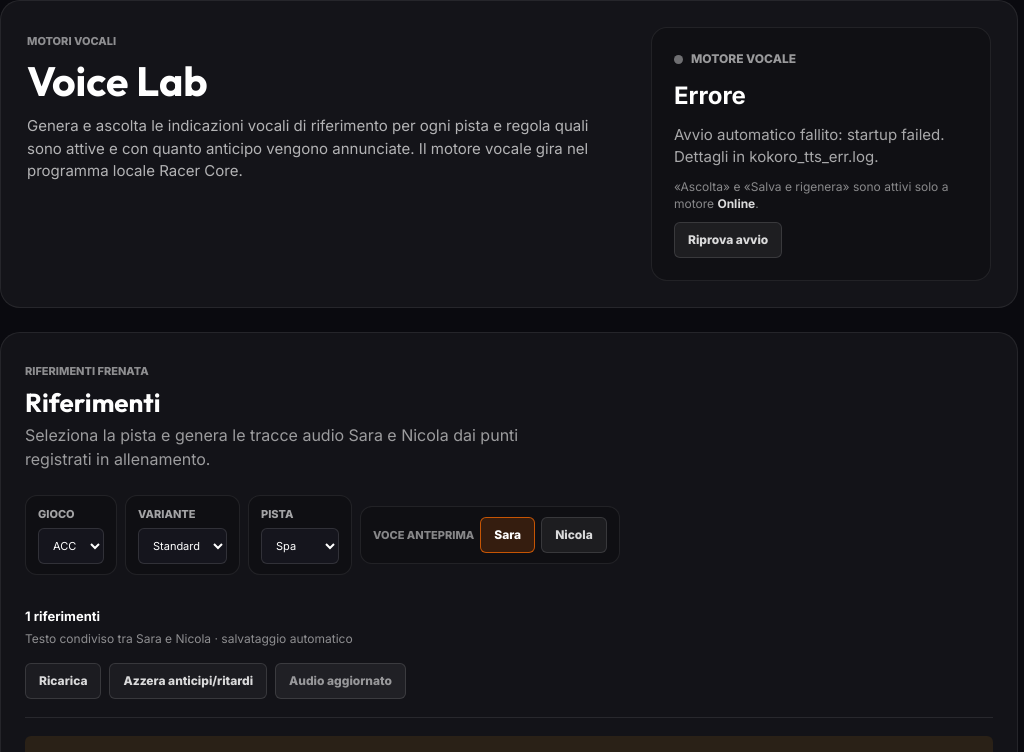
Scenario: Voice Lab user interactions › reports startup failure, permits retry and times out persistent warmup
Click the button "Riprova avvio": (728, 240) left=674, top=222, right=782, bottom=258
Wait 123000 ms
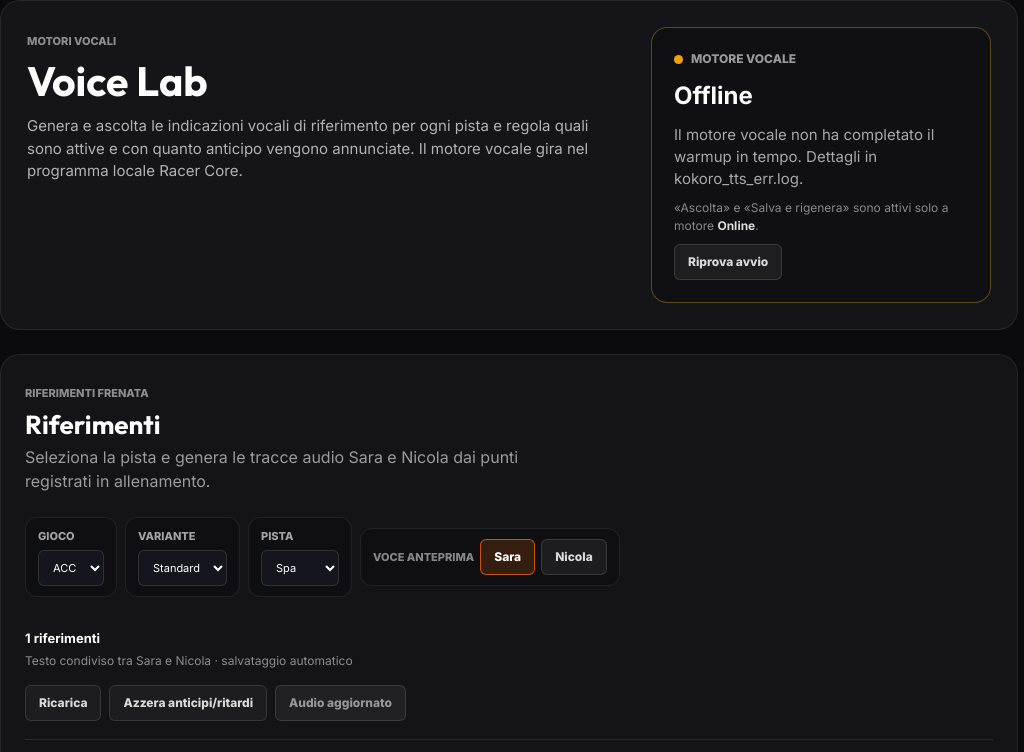
Result: the text "Offline" is shown at left=674, top=81, right=753, bottom=110
Result: the text "non ha completato il warmup in tempo" is shown at left=674, top=125, right=934, bottom=188
